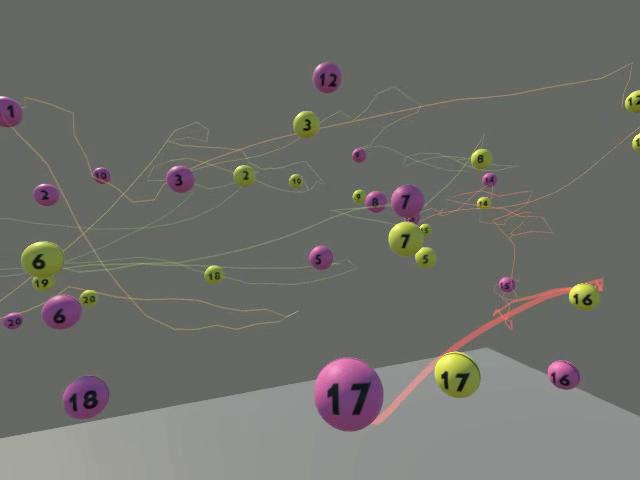ball_02_pink: (32, 183, 59, 206)
ball_02_yellow: (232, 164, 254, 186)
ball_03_pink: (166, 167, 194, 192)
ball_03_yellow: (293, 111, 319, 138)
ball_05_pink: (308, 245, 332, 270)
ball_05_yellow: (414, 246, 436, 268)
ball_06_pink: (41, 294, 81, 329)
ball_06_yellow: (20, 240, 64, 277)
ball_07_yellow: (387, 221, 423, 256), (390, 184, 424, 218)
ball_08_pink: (365, 191, 386, 212)
ball_08_yellow: (470, 149, 493, 170)
ball_09_pink: (351, 147, 365, 162)
ball_09_yellow: (351, 189, 365, 203)
ball_10_pink: (91, 166, 110, 184)
ball_10_yellow: (288, 174, 303, 189)
ball_12_pink: (312, 60, 341, 92)
ball_14_pink: (481, 172, 496, 188)
ball_14_yellow: (476, 196, 491, 208)
ball_15_pink: (497, 277, 515, 292)
ball_16_pink: (547, 360, 579, 389)
ball_16_yellow: (569, 283, 600, 310)
ball_17_pink: (313, 357, 383, 431)
ball_17_yellow: (434, 352, 480, 398)
ball_18_pink: (61, 375, 109, 419)
ball_18_yellow: (204, 265, 224, 283)
ball_19_yellow: (31, 275, 54, 289)
ball_20_pink: (3, 312, 22, 329)
ball_20_yellow: (80, 289, 97, 306)
ball_unknown: (0, 95, 22, 126), (623, 89, 639, 112), (419, 223, 431, 236), (631, 133, 639, 152), (404, 214, 419, 224)
